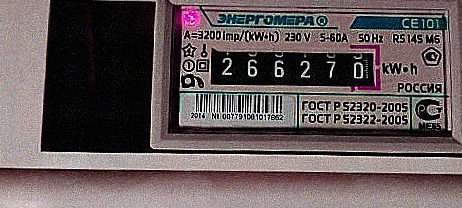0: (351, 59, 363, 80)
2: (219, 55, 233, 76), (298, 58, 310, 79)
6: (245, 57, 258, 78), (271, 58, 284, 77)
7: (323, 58, 336, 80)
screen: (199, 36, 388, 98)
